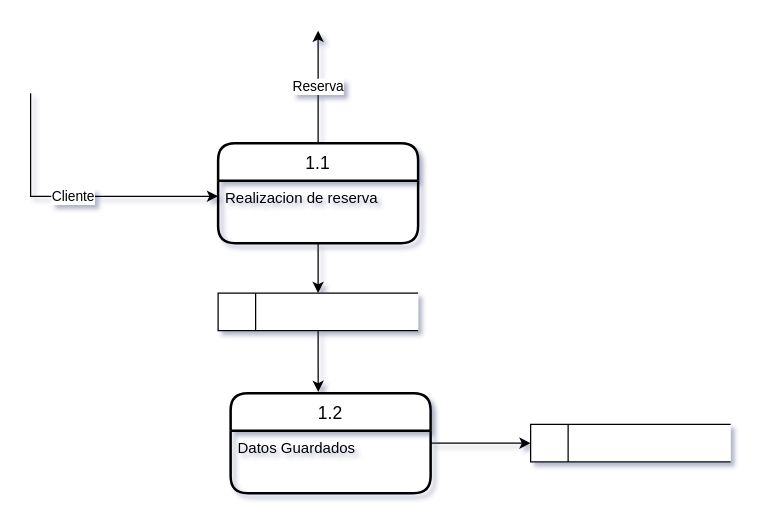
Image size: 760x524. Some labels were removed from this diagram. The shapes that lost their labels are listed below. From the top down, each one's centre as x and y in pixels, then its label:
At (x=317, y=311): "D5 Archivos de transaccion".
At (x=630, y=442): "D1 Almacen de datos".
